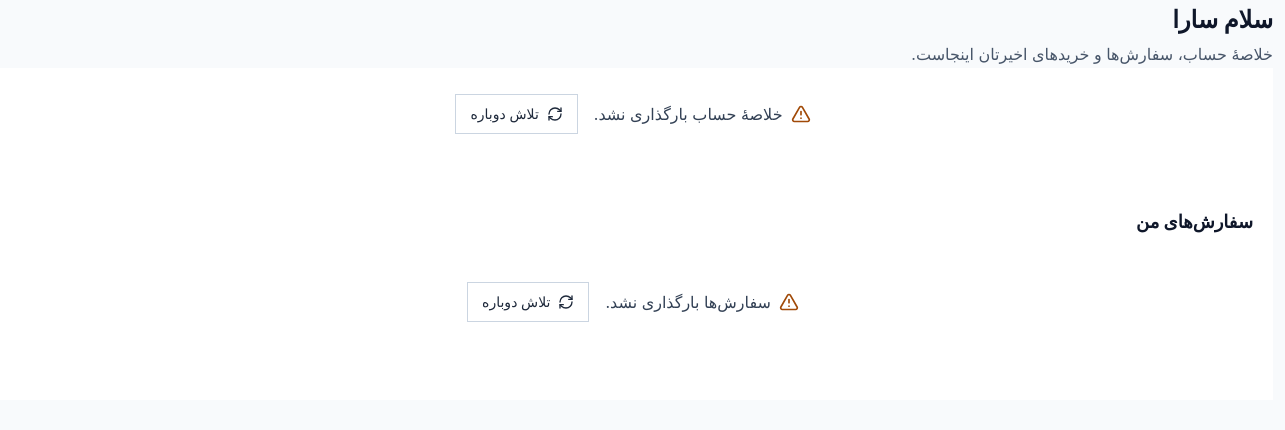
Test: loading and failing › offers a retry when the summary cannot be read, and shows it once it can
Click the button "تلاش دوباره" next to "خلاصهٔ حساب بارگذاری نشد.".
click(517, 114)  # box top-left (456, 94), bottom-right (578, 134)
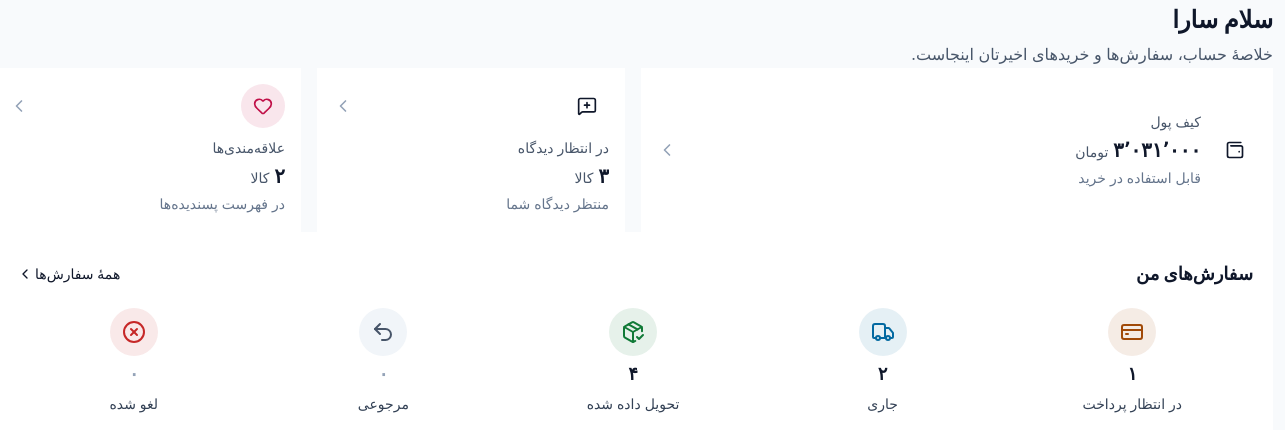
Expected: the link "کیف پول ۳٬۰۳۱٬۰۰۰ تومان قابل استفاده در خرید" is shown, top-left (641, 68), bottom-right (1273, 232)
Expected: the button "تلاش دوباره" is gone
